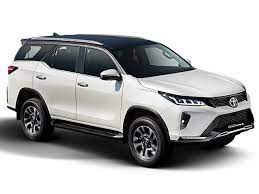Toyota: (9, 34, 254, 150)
